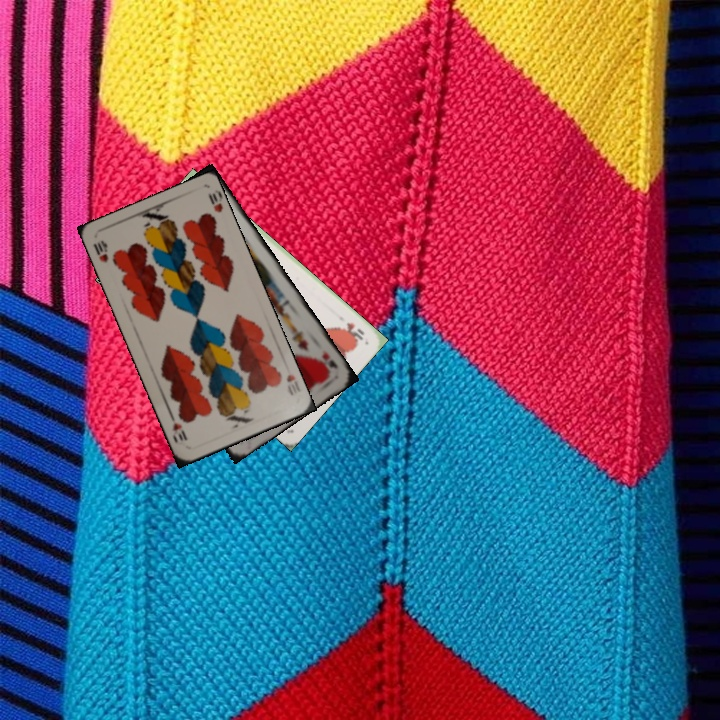H10: (89, 236, 111, 265), (282, 370, 298, 398)
HK: (318, 346, 341, 371)
HO: (340, 318, 367, 343)
